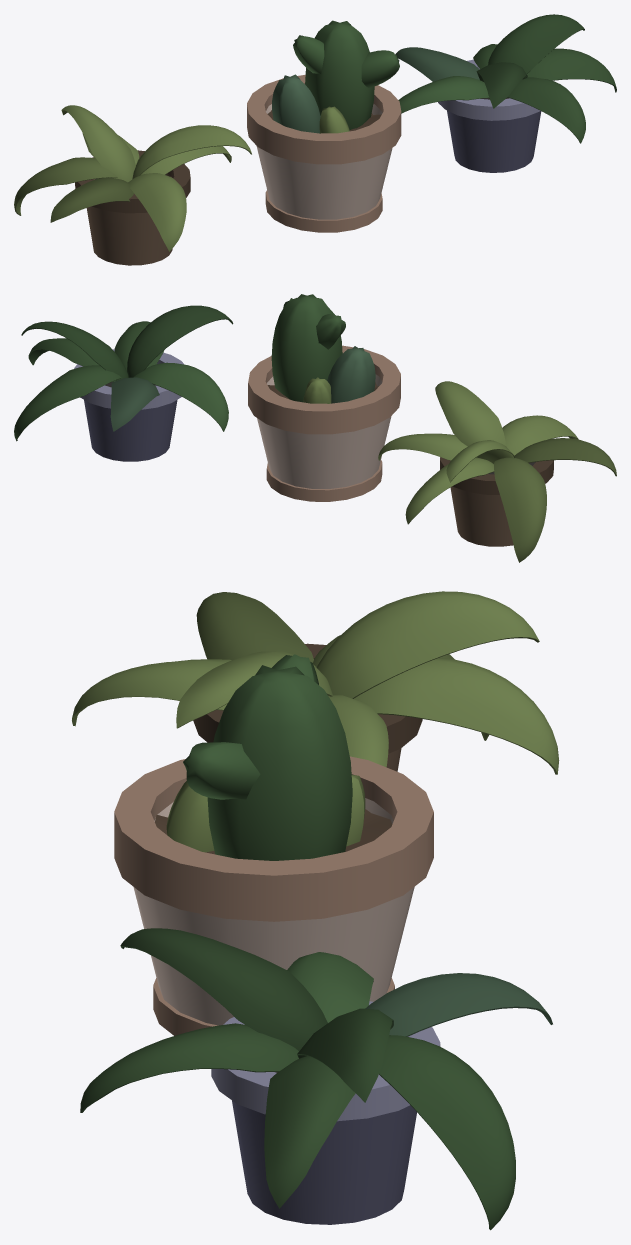
The model's file is colored plants bedroom.fbx.
3 views of the same model, one above another, from view 1: azimuth 30°, elevation 25°; view 2: azimuth 150°, elevation 25°; view 3: azimuth 270°, elevation 25° (orthographic). The views are drawn at different scales.
Visible parts, largest first — view 1: polySurface2, polySurface3, polySurface5, polySurface15, polySurface25, polySurface17, polySurface21, polySurface16, polySurface27, polySurface29, polySurface6, polySurface12 (+12 smaller); view 2: polySurface2, polySurface3, polySurface5, polySurface15, polySurface28, polySurface19, polySurface29, polySurface25, polySurface11, polySurface18, polySurface6, polySurface30 (+13 smaller); view 3: polySurface3, polySurface5, polySurface2, polySurface15, polySurface27, polySurface18, polySurface19, polySurface22, polySurface12, polySurface16, polySurface20, polySurface30 (+12 smaller).
Boxes of the visible parts, box(x1,y1,x2,y2) form: polySurface2: box(256, 104, 392, 219); polySurface3: box(247, 74, 401, 164); polySurface5: box(305, 20, 374, 129); polySurface15: box(447, 110, 541, 172); polySurface25: box(86, 173, 172, 265); polySurface17: box(488, 14, 584, 73); polySurface21: box(128, 173, 186, 251); polySurface16: box(489, 77, 585, 143); polySurface27: box(61, 105, 135, 182); polySurface29: box(132, 125, 251, 179); polySurface6: box(272, 74, 320, 133); polySurface12: box(527, 48, 616, 92); polySurface2: box(257, 374, 391, 488); polySurface3: box(248, 345, 400, 434); polySurface5: box(271, 294, 342, 402); polySurface15: box(84, 399, 177, 461); polySurface28: box(494, 457, 546, 562); polySurface19: box(127, 305, 233, 377); polySurface29: box(435, 381, 505, 446); polySurface25: box(450, 462, 535, 546); polySurface11: box(133, 362, 228, 431); polySurface18: box(14, 365, 121, 441); polySurface6: box(327, 346, 375, 403); polySurface30: box(514, 438, 616, 476); polySurface3: box(114, 756, 433, 921); polySurface5: box(207, 665, 352, 860); polySurface2: box(133, 798, 414, 1025); polySurface15: box(232, 1100, 416, 1224); polySurface27: box(316, 591, 539, 698); polySurface18: box(379, 1035, 515, 1230); polySurface19: box(120, 928, 327, 1050); polySurface22: box(354, 657, 559, 774); polySurface12: box(264, 1056, 355, 1208); polySurface16: box(80, 1023, 298, 1112); polySurface20: box(365, 973, 552, 1036); polySurface30: box(196, 592, 313, 662).
Size of the model in its own units: 0.3757 by 0.1125 by 0.1385.
